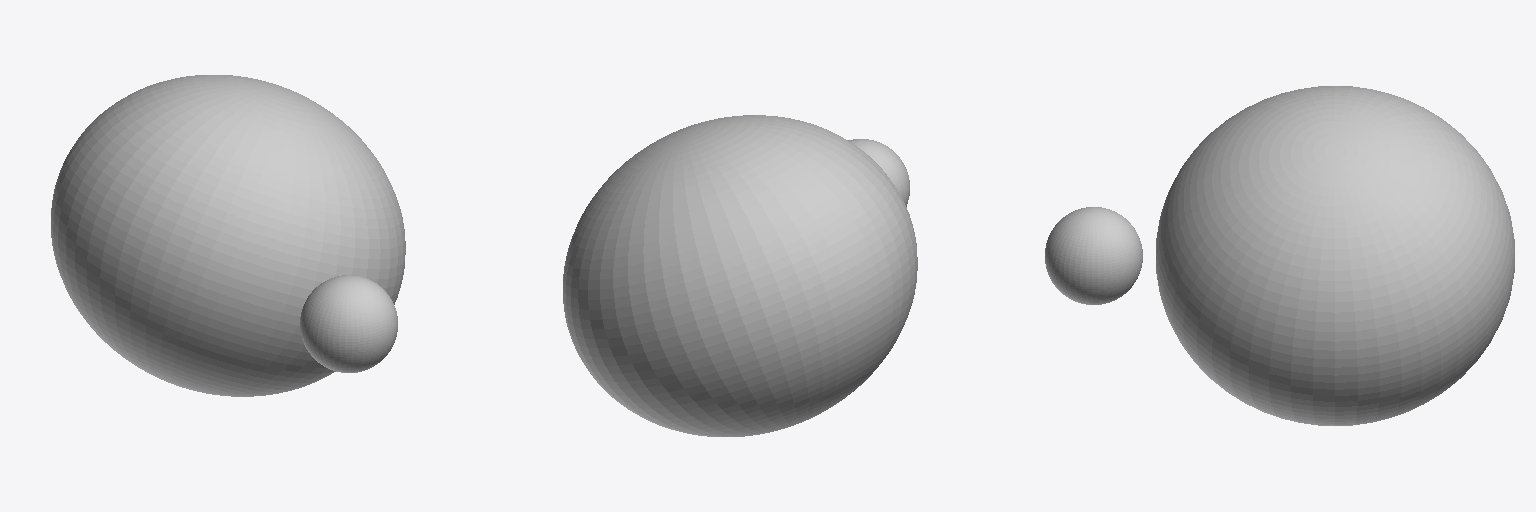
The model's file is Earth-Moon.obj.
3 renders of one model, left to right at view 1: azimuth 30°, elevation 25°; view 2: azimuth 150°, elevation 25°; view 3: azimuth 270°, elevation 25°, orthographic.
Parts seen in each view (by area): view 1: pSphere4 group4, group4 pSphere8; view 2: pSphere4 group4, group4 pSphere8; view 3: pSphere4 group4, group4 pSphere8.
Boxes of the visible parts, x1=… form: pSphere4 group4: x1=51, y1=75, x2=405, y2=396; group4 pSphere8: x1=300, y1=275, x2=397, y2=372; pSphere4 group4: x1=563, y1=115, x2=917, y2=436; group4 pSphere8: x1=848, y1=139, x2=909, y2=206; pSphere4 group4: x1=1156, y1=86, x2=1514, y2=425; group4 pSphere8: x1=1045, y1=207, x2=1142, y2=304.
Bounding box in the file's own units: 2.16 × 1.97 × 2.87.